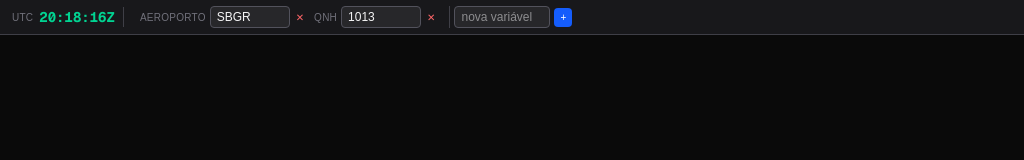
GlobalVariablesBar › adds a new variable via Add button
Type "frequencia" into the field named "New variable name".
click(502, 17); type("frequencia")  # box [454, 6, 550, 28]
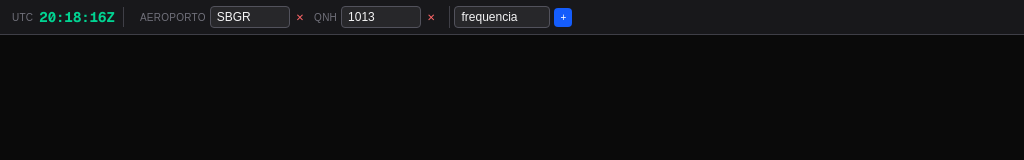
Click the button "+".
click(563, 17)  # box [554, 8, 572, 26]
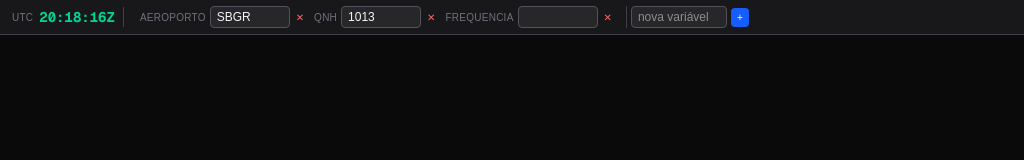
Expected: the field named "frequencia value" is shown, [518, 6, 598, 28]
